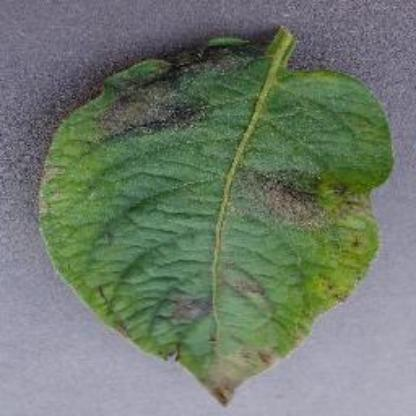Late-Blight: (38, 22, 396, 400)
